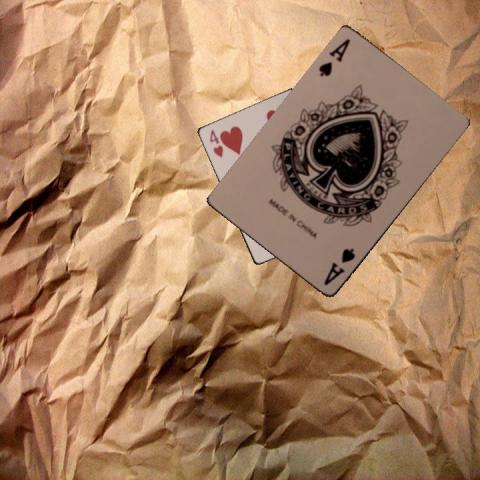4h: (206, 126, 224, 159)
As: (315, 36, 352, 79), (320, 245, 356, 288)
